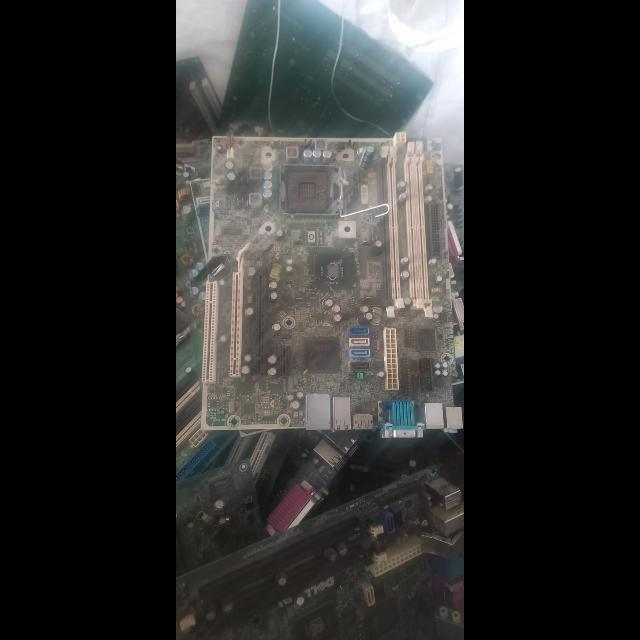PCB: (198, 132, 464, 428)
